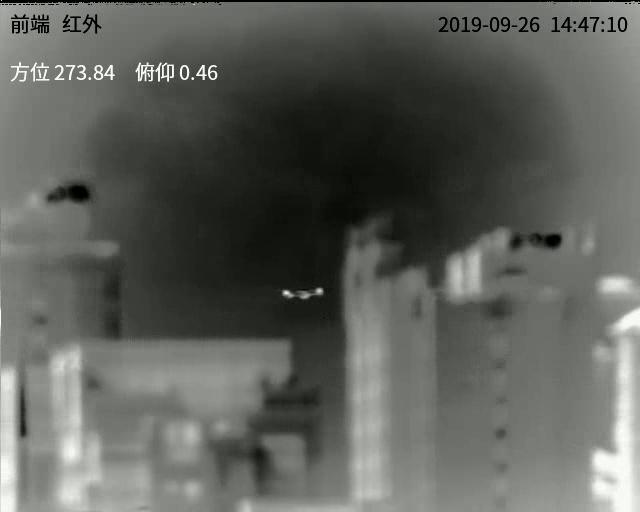DRONE: (281, 285, 327, 302)
